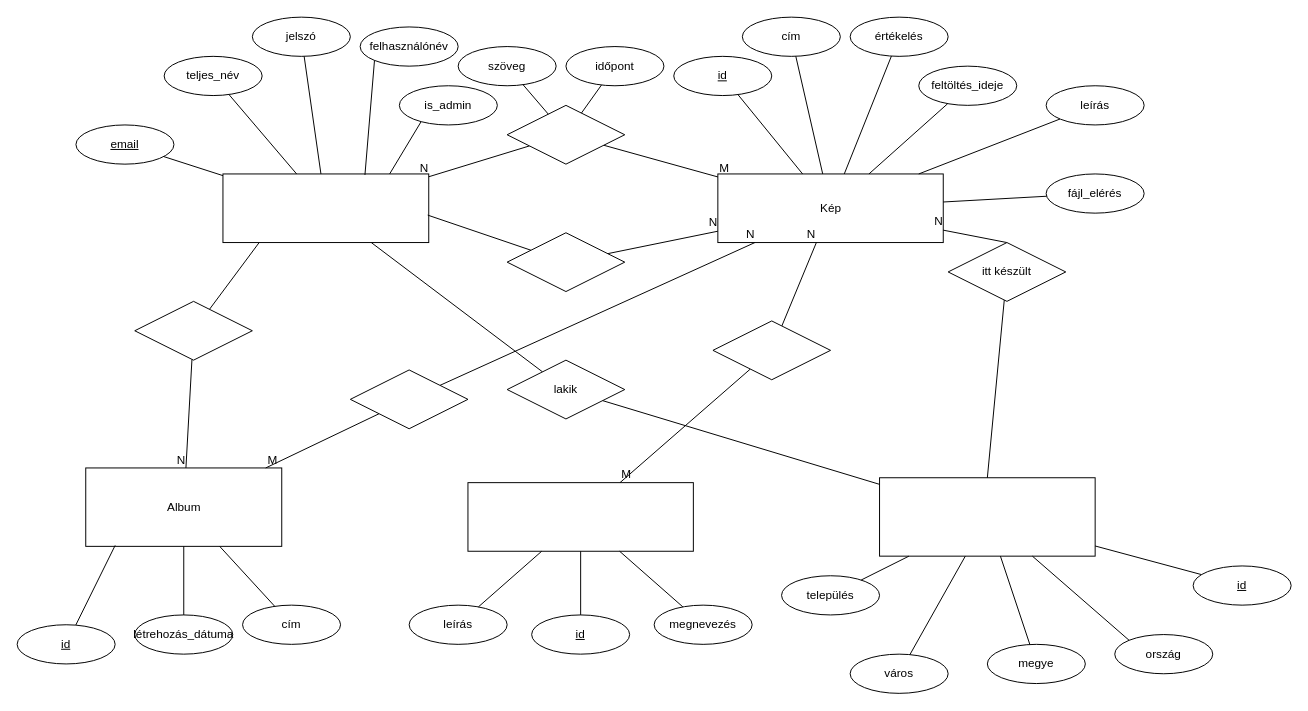
Image size: 1308x711. Some labels were removed from this diagram. Here are the shapes that lost their labels. From the top down, the centre of each, then its label:
[565,134]: hozzászól
[325,208]: Felhasználók
[565,262]: feltölt
[193,330]: létrehoz
[771,350]: beletartozik
[408,399]: benne van
[580,516]: Kategória
[987,516]: Helyszín
